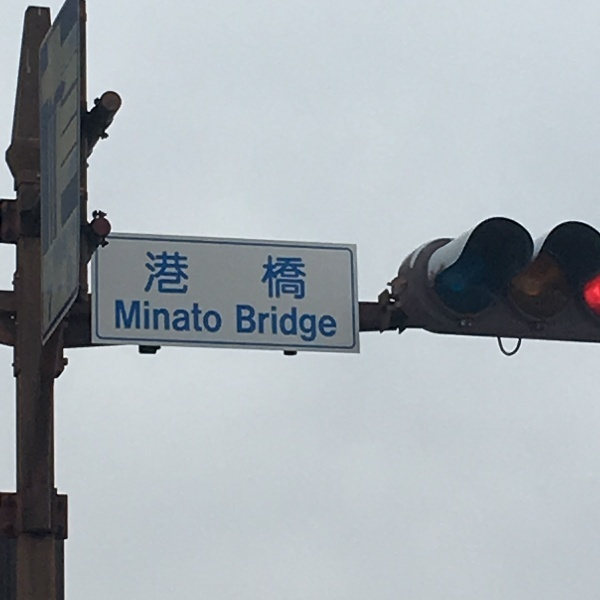text: (145, 249, 160, 302), (161, 249, 176, 302), (177, 249, 192, 302), (193, 249, 208, 302), (209, 249, 224, 302), (225, 249, 240, 302), (241, 249, 256, 302), (257, 249, 272, 302), (273, 249, 288, 302), (289, 249, 304, 302), (241, 302, 256, 344), (257, 302, 272, 344), (273, 302, 288, 344), (289, 302, 304, 344), (305, 302, 320, 344), (321, 302, 336, 344), (129, 297, 144, 337), (145, 297, 160, 337), (161, 297, 176, 337), (177, 297, 192, 337), (193, 297, 208, 337), (209, 297, 223, 337), (115, 297, 128, 337), (236, 302, 240, 344), (305, 249, 307, 302), (337, 302, 338, 344)
